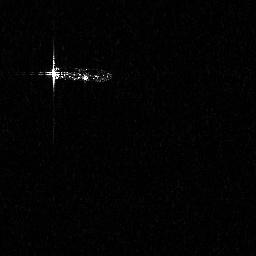ship: (21, 40, 114, 98)
